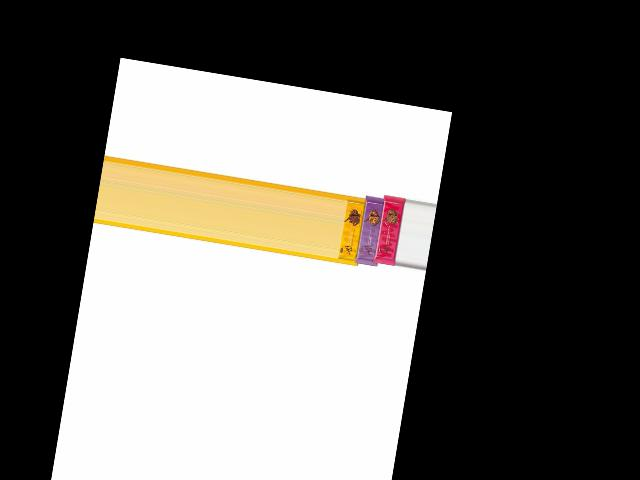chocolate: (373, 190, 407, 269)
